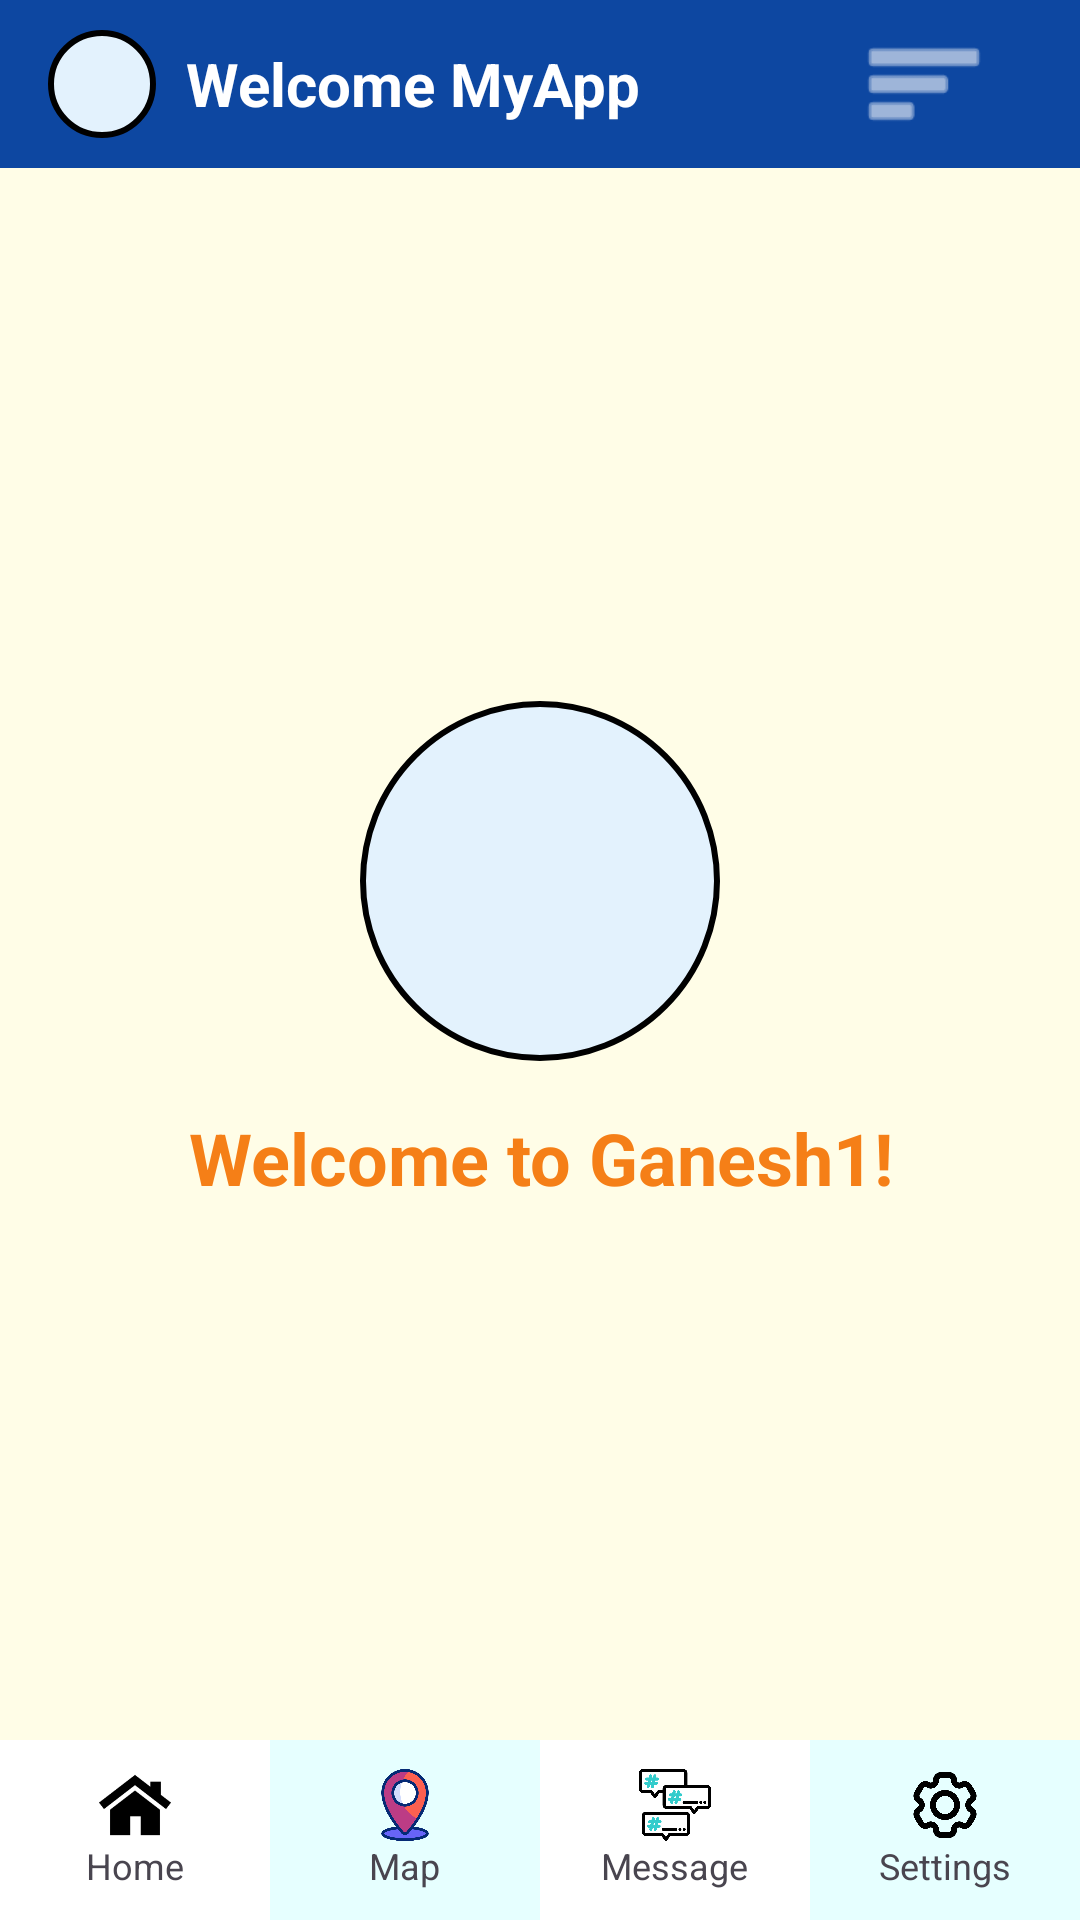

Screen size 1080w x 1920h. Icon name, then its box in pixels as [x1, y1, x2, y2]:
sort by size: [868, 48, 980, 120]
